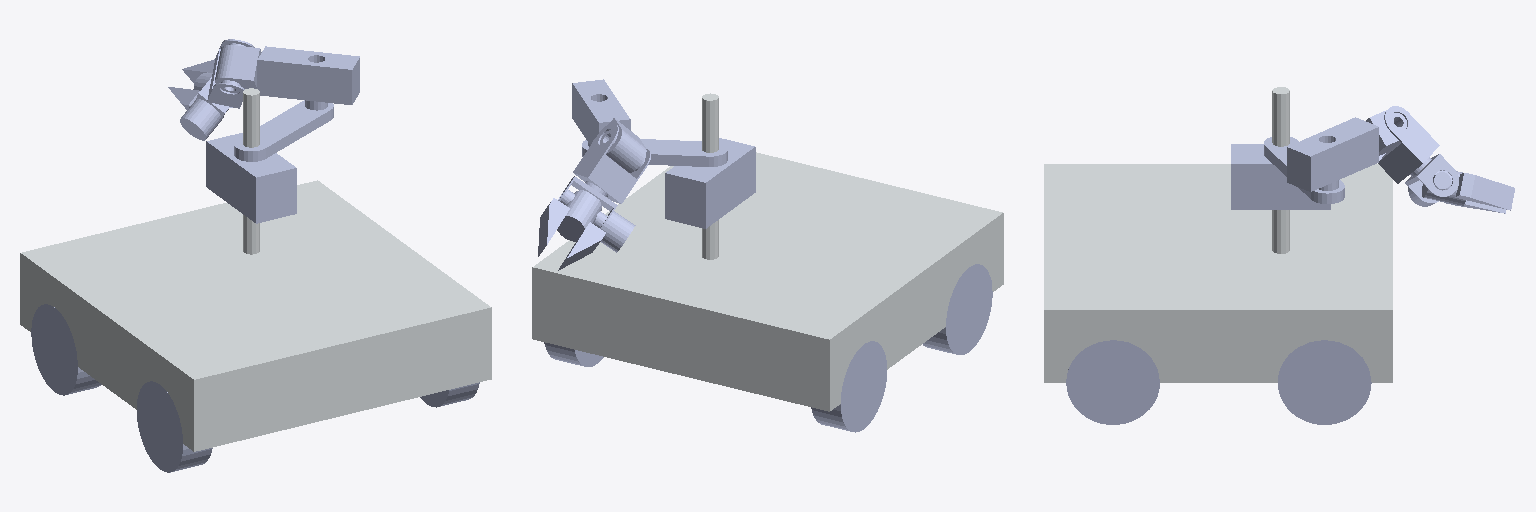
The robot description file, URDF, robot "GC":
<?xml version="1.0" encoding="utf-8"?>
<!-- This URDF was automatically created by SolidWorks to URDF Exporter! Originally created by Stephen Brawner (brawner@gmail.com) 
     Commit Version: 1.6.0-4-g7f85cfe  Build Version: 1.6.7995.38578
     For more information, please see http://wiki.ros.org/sw_urdf_exporter -->
<robot
  name="GC">
  <link
    name="base_link">
    <inertial>
      <origin
        xyz="0.00024619939328266 0.150838930266798 -0.000497088298818348"
        rpy="0 0 0" />
      <mass
        value="122.092710334633" />
      <inertia
        ixx="3.7669452280776"
        ixy="-0.00646755912932073"
        ixz="0.00317132797577638"
        iyy="6.7732794192064"
        iyz="0.0130583098611044"
        izz="3.441133324771" />
    </inertial>
    <visual>
      <origin
        xyz="0 0 0"
        rpy="0 0 0" />
      <geometry>
        <mesh
          filename="package://rm26_engineer_description/meshes/base_link.STL" />
      </geometry>
      <material
        name="">
        <color
          rgba="0.898039215686275 0.917647058823529 0.929411764705882 1" />
      </material>
    </visual>
    <collision>
      <origin
        xyz="0 0 0"
        rpy="0 0 0" />
      <geometry>
        <mesh
          filename="package://rm26_engineer_description/meshes/base_link.STL" />
      </geometry>
    </collision>
  </link>
  <link
    name="wheel_link_1">
    <inertial>
      <origin
        xyz="0 1.38777878078145E-17 0.03"
        rpy="0 0 0" />
      <mass
        value="1.20637157897848" />
      <inertia
        ixx="0.00229210600005911"
        ixy="-1.05032085459533E-19"
        ixz="1.42099558356963E-20"
        iyy="0.00229210600005911"
        iyz="-4.78502541560294E-20"
        izz="0.00386038905273114" />
    </inertial>
    <visual>
      <origin
        xyz="0 0 0"
        rpy="0 0 0" />
      <geometry>
        <mesh
          filename="package://rm26_engineer_description/meshes/wheel_link_1.STL" />
      </geometry>
      <material
        name="">
        <color
          rgba="0.792156862745098 0.819607843137255 0.933333333333333 1" />
      </material>
    </visual>
    <collision>
      <origin
        xyz="0 0 0"
        rpy="0 0 0" />
      <geometry>
        <mesh
          filename="package://rm26_engineer_description/meshes/wheel_link_1.STL" />
      </geometry>
    </collision>
  </link>
  <joint
    name="wheel_1"
    type="revolute">
    <origin
      xyz="0.2935 -0.18 0.08"
      rpy="-1.5708 0 1.5708" />
    <parent
      link="base_link" />
    <child
      link="wheel_link_1" />
    <axis
      xyz="0 0 -1" />
    <limit
      lower="-10"
      upper="10"
      effort="0"
      velocity="0" />
  </joint>
  <link
    name="wheel_link_2">
    <inertial>
      <origin
        xyz="0 1.38777878078145E-17 0.03"
        rpy="0 0 0" />
      <mass
        value="1.20637157897848" />
      <inertia
        ixx="0.00229210600005911"
        ixy="-1.05032085459533E-19"
        ixz="1.42099558356963E-20"
        iyy="0.00229210600005911"
        iyz="-4.78502541560294E-20"
        izz="0.00386038905273114" />
    </inertial>
    <visual>
      <origin
        xyz="0 0 0"
        rpy="0 0 0" />
      <geometry>
        <mesh
          filename="package://rm26_engineer_description/meshes/wheel_link_2.STL" />
      </geometry>
      <material
        name="">
        <color
          rgba="0.792156862745098 0.819607843137255 0.933333333333333 1" />
      </material>
    </visual>
    <collision>
      <origin
        xyz="0 0 0"
        rpy="0 0 0" />
      <geometry>
        <mesh
          filename="package://rm26_engineer_description/meshes/wheel_link_2.STL" />
      </geometry>
    </collision>
  </link>
  <joint
    name="wheel_2"
    type="revolute">
    <origin
      xyz="0.2935 0.18 0.08"
      rpy="-1.5708 0 1.5708" />
    <parent
      link="base_link" />
    <child
      link="wheel_link_2" />
    <axis
      xyz="0 0 -1" />
    <limit
      lower="-10"
      upper="10"
      effort="0"
      velocity="0" />
  </joint>
  <link
    name="wheel_link_3">
    <inertial>
      <origin
        xyz="2.77555756156289E-17 0 -0.03"
        rpy="0 0 0" />
      <mass
        value="1.20637157897848" />
      <inertia
        ixx="0.00229210600005911"
        ixy="-2.74438674910393E-19"
        ixz="6.84200644599715E-20"
        iyy="0.00229210600005911"
        iyz="-7.4955308468167E-20"
        izz="0.00386038905273114" />
    </inertial>
    <visual>
      <origin
        xyz="0 0 0"
        rpy="0 0 0" />
      <geometry>
        <mesh
          filename="package://rm26_engineer_description/meshes/wheel_link_3.STL" />
      </geometry>
      <material
        name="">
        <color
          rgba="0.792156862745098 0.819607843137255 0.933333333333333 1" />
      </material>
    </visual>
    <collision>
      <origin
        xyz="0 0 0"
        rpy="0 0 0" />
      <geometry>
        <mesh
          filename="package://rm26_engineer_description/meshes/wheel_link_3.STL" />
      </geometry>
    </collision>
  </link>
  <joint
    name="wheel_3"
    type="revolute">
    <origin
      xyz="-0.2935 -0.18 0.08"
      rpy="-1.5708 0 1.5708" />
    <parent
      link="base_link" />
    <child
      link="wheel_link_3" />
    <axis
      xyz="0 0 -1" />
    <limit
      lower="-10"
      upper="10"
      effort="0"
      velocity="0" />
  </joint>
  <link
    name="wheel_link_4">
    <inertial>
      <origin
        xyz="-2.77555756156289E-17 1.38777878078145E-17 -0.03"
        rpy="0 0 0" />
      <mass
        value="1.20637157897848" />
      <inertia
        ixx="0.00229210600005911"
        ixy="-1.3213713977167E-19"
        ixz="1.42099558356965E-20"
        iyy="0.00229210600005911"
        iyz="6.35985446824579E-21"
        izz="0.00386038905273114" />
    </inertial>
    <visual>
      <origin
        xyz="0 0 0"
        rpy="0 0 0" />
      <geometry>
        <mesh
          filename="package://rm26_engineer_description/meshes/wheel_link_4.STL" />
      </geometry>
      <material
        name="">
        <color
          rgba="0.792156862745098 0.819607843137255 0.933333333333333 1" />
      </material>
    </visual>
    <collision>
      <origin
        xyz="0 0 0"
        rpy="0 0 0" />
      <geometry>
        <mesh
          filename="package://rm26_engineer_description/meshes/wheel_link_4.STL" />
      </geometry>
    </collision>
  </link>
  <joint
    name="wheel_4"
    type="revolute">
    <origin
      xyz="-0.2935 0.18 0.08"
      rpy="-1.5708 0 1.5708" />
    <parent
      link="base_link" />
    <child
      link="wheel_link_4" />
    <axis
      xyz="0 0 -1" />
    <limit
      lower="-10"
      upper="10"
      effort="0"
      velocity="0" />
  </joint>
  <link
    name="line_link">
    <inertial>
      <origin
        xyz="-6.93889390390723E-18 1.38777878078145E-17 -0.138220449708882"
        rpy="0 0 0" />
      <mass
        value="1.09949619073592" />
      <inertia
        ixx="0.0035366386494099"
        ixy="-7.00173431439187E-19"
        ixz="-7.88794955279095E-20"
        iyy="0.0013181386494099"
        iyz="7.86046575051991E-20"
        izz="0.00346776285420644" />
    </inertial>
    <visual>
      <origin
        xyz="0 0 0"
        rpy="0 0 0" />
      <geometry>
        <mesh
          filename="package://rm26_engineer_description/meshes/line_link.STL" />
      </geometry>
      <material
        name="">
        <color
          rgba="0.792156862745098 0.819607843137255 0.933333333333333 1" />
      </material>
    </visual>
    <collision>
      <origin
        xyz="0 0 0"
        rpy="0 0 0" />
      <geometry>
        <mesh
          filename="package://rm26_engineer_description/meshes/line_link.STL" />
      </geometry>
    </collision>
  </link>
  <joint
    name="line"
    type="prismatic">
    <origin
      xyz="0.0525 0.106 0.216"
      rpy="3.1416 0 0" />
    <parent
      link="base_link" />
    <child
      link="line_link" />
    <axis
      xyz="0 0 -1" />
    <limit
      lower="-1"
      upper="1"
      effort="0"
      velocity="0" />
  </joint>
  <link
    name="link_1">
    <inertial>
      <origin
        xyz="0.0988134508022116 -0.0447821238375509 0.00818462866097147"
        rpy="0 0 0" />
      <mass
        value="0.298000879113616" />
      <inertia
        ixx="0.000332255250439969"
        ixy="0.000504848132945933"
        ixz="4.06573597239539E-05"
        iyy="0.00121742526011606"
        iyz="-1.84258610875798E-05"
        izz="0.00150941735277171" />
    </inertial>
    <visual>
      <origin
        xyz="0 0 0"
        rpy="0 0 0" />
      <geometry>
        <mesh
          filename="package://rm26_engineer_description/meshes/link_1.STL" />
      </geometry>
      <material
        name="">
        <color
          rgba="0.792156862745098 0.819607843137255 0.933333333333333 1" />
      </material>
    </visual>
    <collision>
      <origin
        xyz="0 0 0"
        rpy="0 0 0" />
      <geometry>
        <mesh
          filename="package://rm26_engineer_description/meshes/link_1.STL" />
      </geometry>
    </collision>
  </link>
  <joint
    name="J1"
    type="revolute">
    <origin
      xyz="0 0 -0.20172"
      rpy="0 0 0" />
    <parent
      link="line_link" />
    <child
      link="link_1" />
    <axis
      xyz="0 0 -1" />
    <limit
      lower="-3.14"
      upper="3.14"
      effort="0"
      velocity="0" />
  </joint>
  <link
    name="link_2">
    <inertial>
      <origin
        xyz="-0.0109573674942894 0.0106588447738483 5.55111512312578E-17"
        rpy="0 0 0" />
      <mass
        value="0.58398682899762" />
      <inertia
        ixx="0.00101900142131788"
        ixy="0.000657519336759442"
        ixz="-5.6615643820121E-19"
        iyy="0.00105533006227943"
        iyz="7.6878984917057E-19"
        izz="0.00163912949589206" />
    </inertial>
    <visual>
      <origin
        xyz="0 0 0"
        rpy="0 0 0" />
      <geometry>
        <mesh
          filename="package://rm26_engineer_description/meshes/link_2.STL" />
      </geometry>
      <material
        name="">
        <color
          rgba="0.792156862745098 0.819607843137255 0.933333333333333 1" />
      </material>
    </visual>
    <collision>
      <origin
        xyz="0 0 0"
        rpy="0 0 0" />
      <geometry>
        <mesh
          filename="package://rm26_engineer_description/meshes/link_2.STL" />
      </geometry>
    </collision>
  </link>
  <joint
    name="J2"
    type="revolute">
    <origin
      xyz="0.17397 -0.078842 -0.0545"
      rpy="-3.1416 0 0" />
    <parent
      link="link_1" />
    <child
      link="link_2" />
    <axis
      xyz="0 0 -1" />
    <limit
      lower="-3.14"
      upper="3.14"
      effort="0"
      velocity="0" />
  </joint>
  <link
    name="link_3">
    <inertial>
      <origin
        xyz="-8.08850694750674E-05 -7.7894728112593E-05 -0.0351943560446614"
        rpy="0 0 0" />
      <mass
        value="0.222871773788512" />
      <inertia
        ixx="0.000158222112432887"
        ixy="-9.62941054290105E-06"
        ixz="-2.03806831226102E-07"
        iyy="0.000158947782628763"
        iyz="-1.96272041412216E-07"
        izz="0.000135435749225932" />
    </inertial>
    <visual>
      <origin
        xyz="0 0 0"
        rpy="0 0 0" />
      <geometry>
        <mesh
          filename="package://rm26_engineer_description/meshes/link_3.STL" />
      </geometry>
      <material
        name="">
        <color
          rgba="0.792156862745098 0.819607843137255 0.933333333333333 1" />
      </material>
    </visual>
    <collision>
      <origin
        xyz="0 0 0"
        rpy="0 0 0" />
      <geometry>
        <mesh
          filename="package://rm26_engineer_description/meshes/link_3.STL" />
      </geometry>
    </collision>
  </link>
  <joint
    name="J3"
    type="revolute">
    <origin
      xyz="-0.070964 0.06903 0"
      rpy="1.5708 0 0.79921" />
    <parent
      link="link_2" />
    <child
      link="link_3" />
    <axis
      xyz="0 0 -1" />
    <limit
      lower="-3.14"
      upper="3.14"
      effort="0"
      velocity="0" />
  </joint>
  <link
    name="link_4">
    <inertial>
      <origin
        xyz="0.0145254511747708 0.0509366550277066 2.44249065417534E-15"
        rpy="0 0 0" />
      <mass
        value="0.263988174644702" />
      <inertia
        ixx="0.000251042200733505"
        ixy="-6.28957453331269E-06"
        ixz="-1.14518854468781E-18"
        iyy="0.000230780017994041"
        iyz="-1.68051336735253E-18"
        izz="0.000164335442331243" />
    </inertial>
    <visual>
      <origin
        xyz="0 0 0"
        rpy="0 0 0" />
      <geometry>
        <mesh
          filename="package://rm26_engineer_description/meshes/link_4.STL" />
      </geometry>
      <material
        name="">
        <color
          rgba="0.792156862745098 0.819607843137255 0.933333333333333 1" />
      </material>
    </visual>
    <collision>
      <origin
        xyz="0 0 0"
        rpy="0 0 0" />
      <geometry>
        <mesh
          filename="package://rm26_engineer_description/meshes/link_4.STL" />
      </geometry>
    </collision>
  </link>
  <joint
    name="J4"
    type="revolute">
    <origin
      xyz="-0.00036015 -0.00034683 -0.0465"
      rpy="-1.5708 -0.97721 -0.80423" />
    <parent
      link="link_3" />
    <child
      link="link_4" />
    <axis
      xyz="0 0 -1" />
    <limit
      lower="-3.14"
      upper="3.14"
      effort="0"
      velocity="0" />
  </joint>
  <link
    name="link_5">
    <inertial>
      <origin
        xyz="-0.0390702836671196 -0.0247827911731201 -0.0326248381080529"
        rpy="0 0 0" />
      <mass
        value="0.168966963377511" />
      <inertia
        ixx="0.000150935927093023"
        ixy="-8.52641456140403E-05"
        ixz="-5.1988567861547E-05"
        iyy="0.000231271425707225"
        iyz="-3.29770275455541E-05"
        izz="0.000264912746004825" />
    </inertial>
    <visual>
      <origin
        xyz="0 0 0"
        rpy="0 0 0" />
      <geometry>
        <mesh
          filename="package://rm26_engineer_description/meshes/link_5.STL" />
      </geometry>
      <material
        name="">
        <color
          rgba="0.792156862745098 0.819607843137255 0.933333333333333 1" />
      </material>
    </visual>
    <collision>
      <origin
        xyz="0 0 0"
        rpy="0 0 0" />
      <geometry>
        <mesh
          filename="package://rm26_engineer_description/meshes/link_5.STL" />
      </geometry>
    </collision>
  </link>
  <joint
    name="J5"
    type="revolute">
    <origin
      xyz="0.022761 0.079818 0"
      rpy="1.5708 -0.54333 -0.27779" />
    <parent
      link="link_4" />
    <child
      link="link_5" />
    <axis
      xyz="0 0 -1" />
    <limit
      lower="-3.14"
      upper="3.14"
      effort="0"
      velocity="0" />
  </joint>
  <link
    name="link_6">
    <inertial>
      <origin
        xyz="-0.00603573649752309 -0.0374189311950067 0.0430000651872199"
        rpy="0 0 0" />
      <mass
        value="0.349895945126719" />
      <inertia
        ixx="0.000635323785149574"
        ixy="-5.30596149886004E-05"
        ixz="-3.11865105442866E-10"
        iyy="0.000314934238586777"
        iyz="-1.4557554633461E-10"
        izz="0.000453558074073961" />
    </inertial>
    <visual>
      <origin
        xyz="0 0 0"
        rpy="0 0 0" />
      <geometry>
        <mesh
          filename="package://rm26_engineer_description/meshes/link_6.STL" />
      </geometry>
      <material
        name="">
        <color
          rgba="0.792156862745098 0.819607843137255 0.933333333333333 1" />
      </material>
    </visual>
    <collision>
      <origin
        xyz="0 0 0"
        rpy="0 0 0" />
      <geometry>
        <mesh
          filename="package://rm26_engineer_description/meshes/link_6.STL" />
      </geometry>
    </collision>
  </link>
  <joint
    name="J6"
    type="revolute">
    <origin
      xyz="0.036311 0.023033 -0.0405"
      rpy="1.5708 0.4276 -1.0055" />
    <parent
      link="link_5" />
    <child
      link="link_6" />
    <axis
      xyz="0 0 -1" />
    <limit
      lower="-3.14"
      upper="3.14"
      effort="0"
      velocity="0" />
  </joint>
</robot>

--- What the picture shows (computed from the rendered views, not written in the file) ---
The picture shows the robot from 3 angles, left to right: view 1: azimuth 30°, elevation 25°; view 2: azimuth 150°, elevation 25°; view 3: azimuth 270°, elevation 25°; orthographic projection.
Robot: GC — 12 links, 11 joints (10 revolute, 1 prismatic); root link base_link; default pose: every joint at zero.
Links seen in each view (by area): view 1: base_link, line_link, link_2, wheel_link_3, wheel_link_4, link_1, link_3, link_5, link_6, link_4, wheel_link_1; view 2: base_link, line_link, wheel_link_4, wheel_link_3, link_6, link_4, link_2, link_1, link_3, link_5, wheel_link_2; view 3: base_link, wheel_link_1, wheel_link_2, link_2, line_link, link_4, link_6, link_5, link_1, link_3.
Boxes of the visible links, box(x1,y1,x2,y2) form: base_link: box(20, 88, 491, 451); line_link: box(206, 133, 296, 223); link_2: box(257, 46, 359, 104); wheel_link_3: box(137, 381, 212, 472); wheel_link_4: box(31, 304, 101, 395); link_1: box(234, 100, 333, 161); link_3: box(215, 43, 261, 92); link_5: box(180, 77, 229, 140); link_6: box(168, 59, 232, 109); link_4: box(207, 39, 254, 108); wheel_link_1: box(420, 382, 479, 407); base_link: box(532, 93, 1003, 411); line_link: box(665, 138, 755, 228); wheel_link_4: box(811, 341, 886, 432); wheel_link_3: box(923, 264, 992, 354); link_6: box(538, 190, 607, 270); link_4: box(573, 123, 650, 203); link_2: box(572, 79, 630, 145); link_1: box(582, 139, 727, 166); link_3: box(592, 118, 646, 172); link_5: box(558, 176, 635, 252); wheel_link_2: box(544, 342, 603, 366); base_link: box(1044, 87, 1392, 382); wheel_link_1: box(1066, 340, 1159, 424); wheel_link_2: box(1278, 340, 1371, 424); link_2: box(1287, 117, 1378, 191); line_link: box(1231, 144, 1330, 209); link_4: box(1378, 106, 1439, 183); link_6: box(1422, 170, 1514, 213); link_5: box(1405, 154, 1458, 206); link_1: box(1264, 137, 1344, 203); link_3: box(1366, 110, 1406, 155).
Size in the robot's own frame: 0.5897 by 0.8021 by 0.521 metres.
Meshes: 12 distinct files referenced, 12 mesh visuals loaded (12 binary STL).
